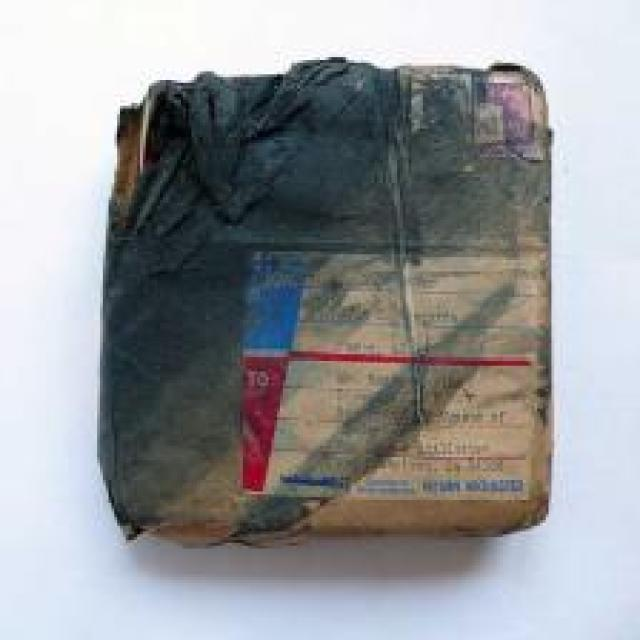box: (96, 63, 548, 541)
contamination: (114, 71, 535, 525)
